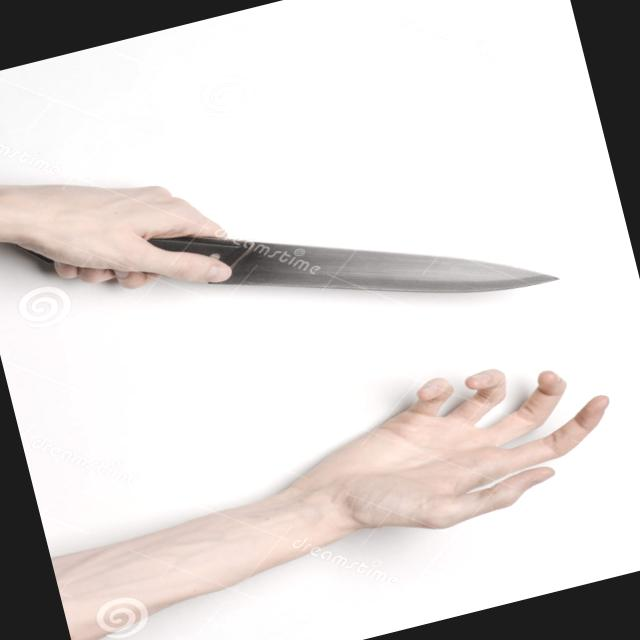knife: (111, 125, 574, 392)
